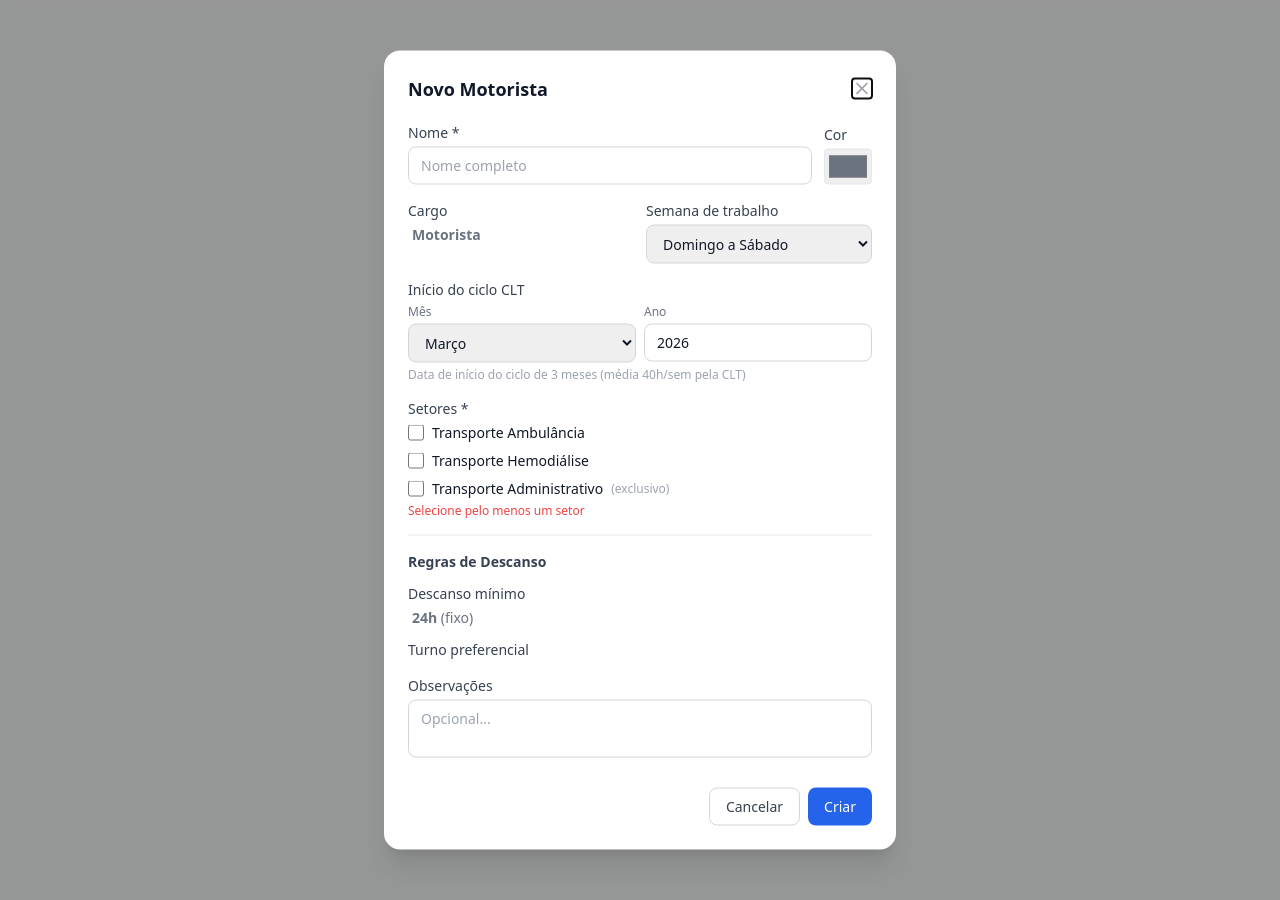
Test: EmployeeForm — toggleSetor › checkboxes de Ambulância e Hemodiálise ficam enabled quando ADM é desselecionado
The width and height of the screenshot is (1280, 900).
Click the checkbox labelled "Transporte Administrativo (exclusivo)" at (416, 488), box [408,480,424,496]
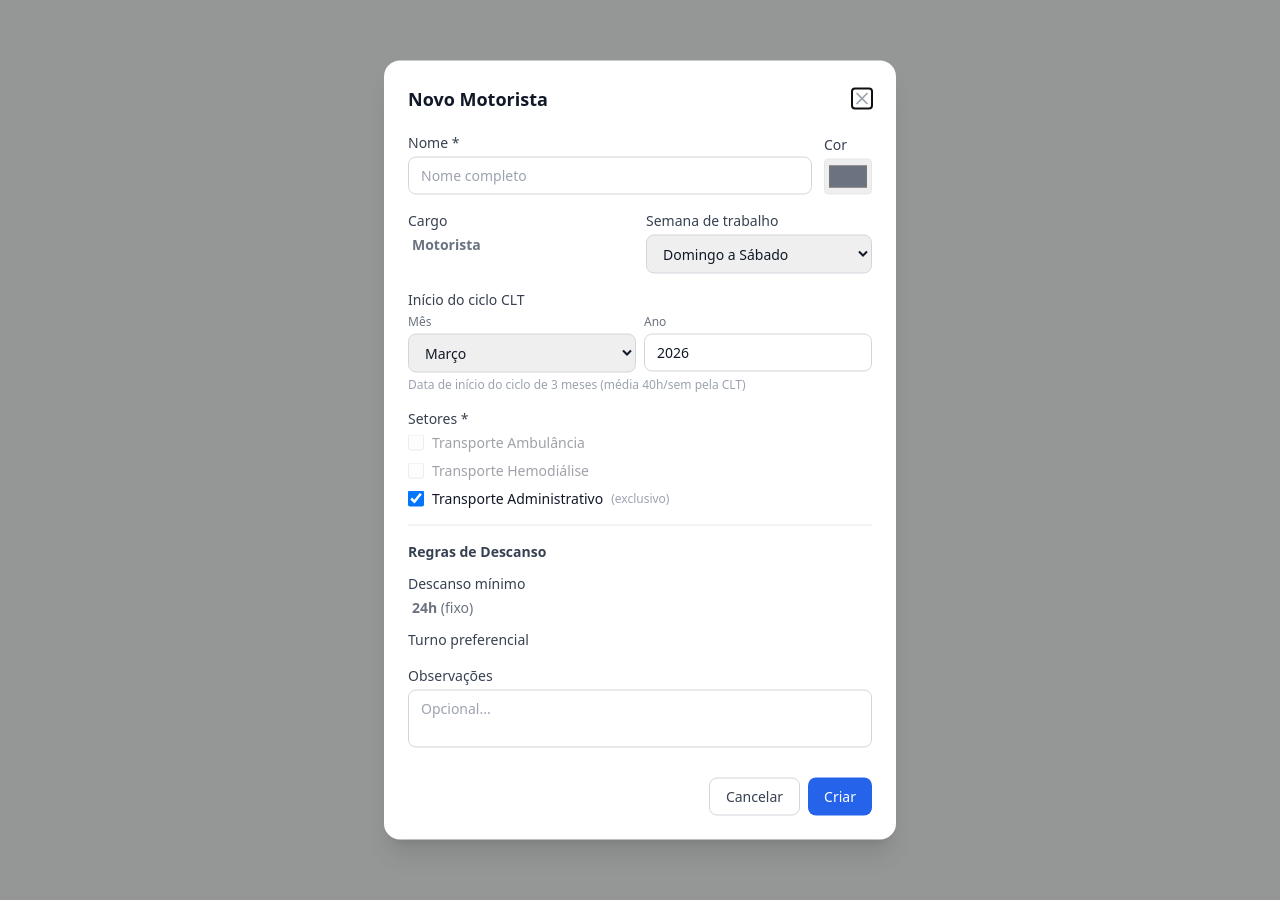
Click the checkbox labelled "Transporte Administrativo (exclusivo)" at (416, 498), box [408,490,424,506]
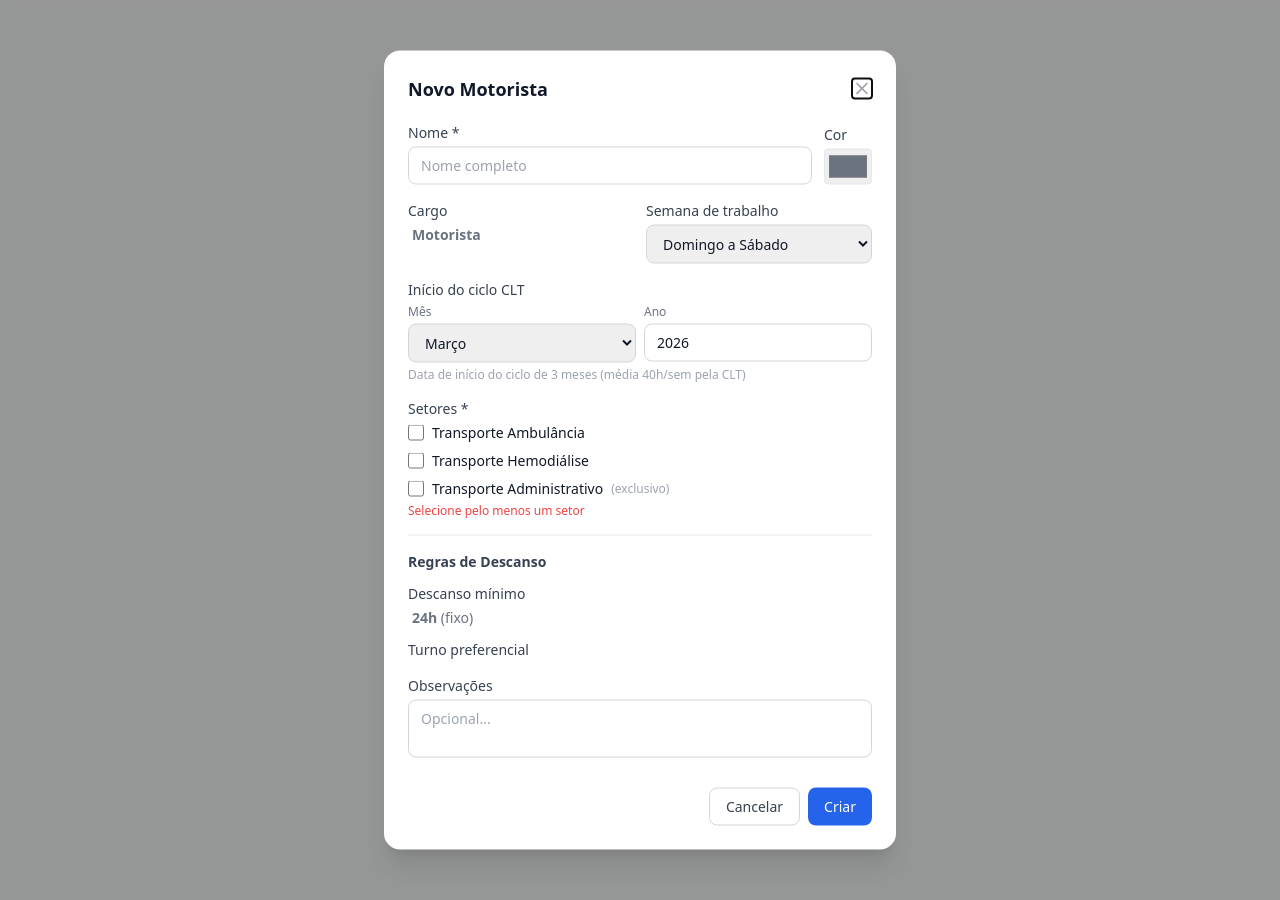
Expected: the checkbox labelled "Transporte Ambulância" is enabled, [408,424,424,440]
Expected: the checkbox labelled "Transporte Hemodiálise" is enabled, [408,452,424,468]
